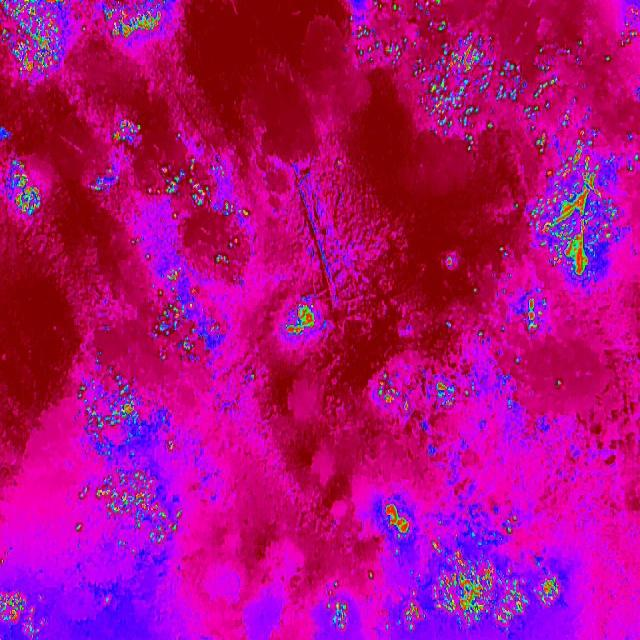fire: (350, 0, 570, 156), (324, 534, 570, 640), (66, 364, 190, 556), (99, 168, 254, 284), (526, 134, 625, 280), (439, 249, 552, 349), (148, 274, 228, 362), (0, 0, 81, 79), (374, 368, 471, 422), (96, 0, 184, 45), (575, 10, 640, 64), (0, 585, 49, 640), (4, 158, 43, 223), (276, 304, 324, 341), (382, 499, 422, 540), (104, 115, 146, 144)
